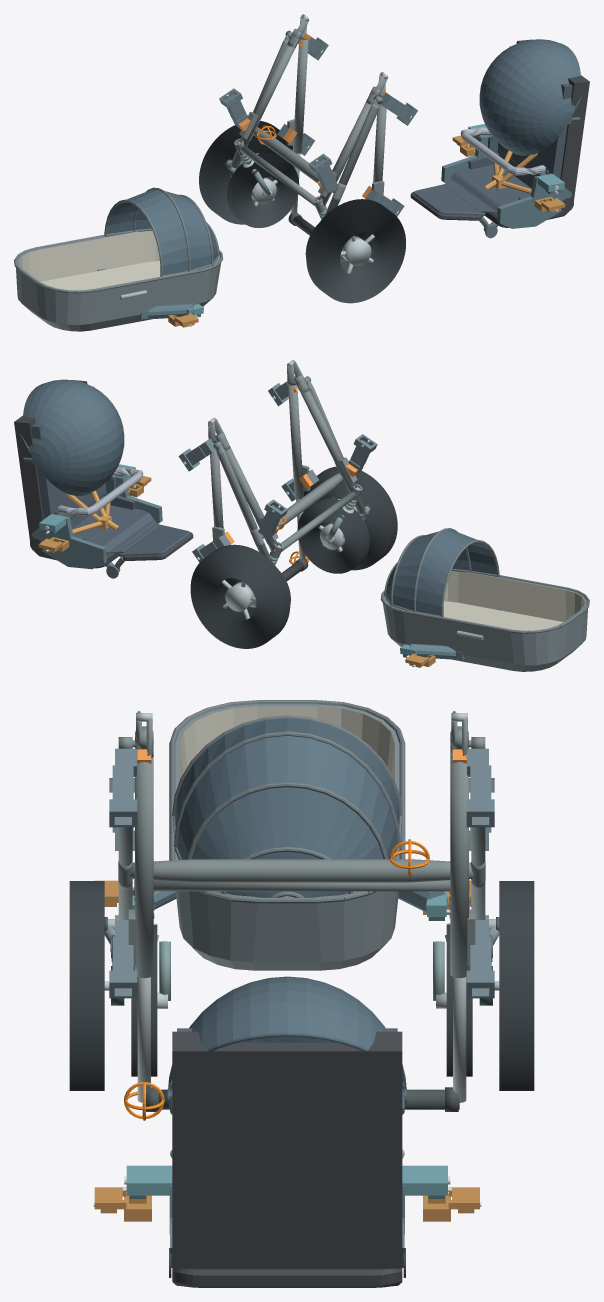
Rendered from D05_w650_state3_wheel_L.glb.
The picture shows the model from 3 angles, top to bottom: view 1: azimuth 30°, elevation 25°; view 2: azimuth 150°, elevation 25°; view 3: azimuth 270°, elevation 25°; orthographic projection. The views are drawn at different scales.
Parts seen in each view (by area): view 1: D05_Upper, D05_Lower, RL_tire.011, FR_tire.011, RR_tire.011, D05_Lower_Mount_L, main_upper_1.012, main_lower_1.012, V46_rear_leg_-1.011, V46_rearbar.011, main_lower_-1.012, D05_Upper_Mount_H (+7 smaller); view 2: D05_Upper, D05_Lower, RR_tire.011, FL_tire.011, RL_tire.011, D05_Lower_Mount_L, main_upper_-1.012, main_lower_-1.012, V46_rear_leg_1.011, V46_rearbar.011, main_lower_1.012, D05_Upper_Mount_H (+7 smaller); view 3: D05_Lower, D05_Upper, RL_tire.011, RR_tire.011, V46_rearbar.011, main_upper_1.012, main_upper_-1.012, D05_Lower_Mount_L, front_fixed_round_tube.011, Universal_Cabin_Receiver_M_-1, Universal_Cabin_Receiver_M_1, Universal_Cabin_Receiver_H_1 (+11 smaller).
Part boxes in pixels (<box>): D05_Upper: <box>14,187,223,331</box>; D05_Lower: <box>410,39,589,238</box>; RL_tire.011: <box>306,199,405,303</box>; FR_tire.011: <box>227,152,299,227</box>; RR_tire.011: <box>199,121,292,224</box>; D05_Lower_Mount_L: <box>441,124,572,228</box>; main_upper_1.012: <box>292,39,308,153</box>; main_lower_1.012: <box>239,39,298,146</box>; V46_rear_leg_-1.011: <box>324,103,379,216</box>; V46_rearbar.011: <box>253,127,335,192</box>; main_lower_-1.012: <box>318,101,373,205</box>; D05_Upper_Mount_H: <box>97,268,203,319</box>; D05_Upper: <box>380,528,589,671</box>; D05_Lower: <box>14,379,193,578</box>; RR_tire.011: <box>190,544,290,648</box>; FL_tire.011: <box>297,498,369,573</box>; RL_tire.011: <box>303,466,397,570</box>; D05_Lower_Mount_L: <box>31,464,162,569</box>; main_upper_-1.012: <box>288,384,303,499</box>; main_lower_-1.012: <box>298,384,356,492</box>; V46_rear_leg_1.011: <box>217,449,272,562</box>; V46_rearbar.011: <box>261,472,342,538</box>; main_lower_1.012: <box>222,446,278,551</box>; D05_Upper_Mount_H: <box>400,609,506,659</box>; D05_Lower: <box>167,976,407,1287</box>; D05_Upper: <box>169,700,405,970</box>; RL_tire.011: <box>69,881,104,1090</box>; RR_tire.011: <box>499,881,534,1090</box>; V46_rearbar.011: <box>130,859,473,882</box>; main_upper_1.012: <box>450,757,468,978</box>; main_upper_-1.012: <box>135,757,153,978</box>; D05_Lower_Mount_L: <box>122,1165,451,1267</box>; front_fixed_round_tube.011: <box>153,880,450,891</box>; Universal_Cabin_Receiver_M_-1: <box>109,748,137,827</box>; Universal_Cabin_Receiver_M_1: <box>466,748,494,827</box>; Universal_Cabin_Receiver_H_1: <box>466,920,494,998</box>.
Bounding box in the file's own units: 2.14 × 0.7809 × 0.796.
